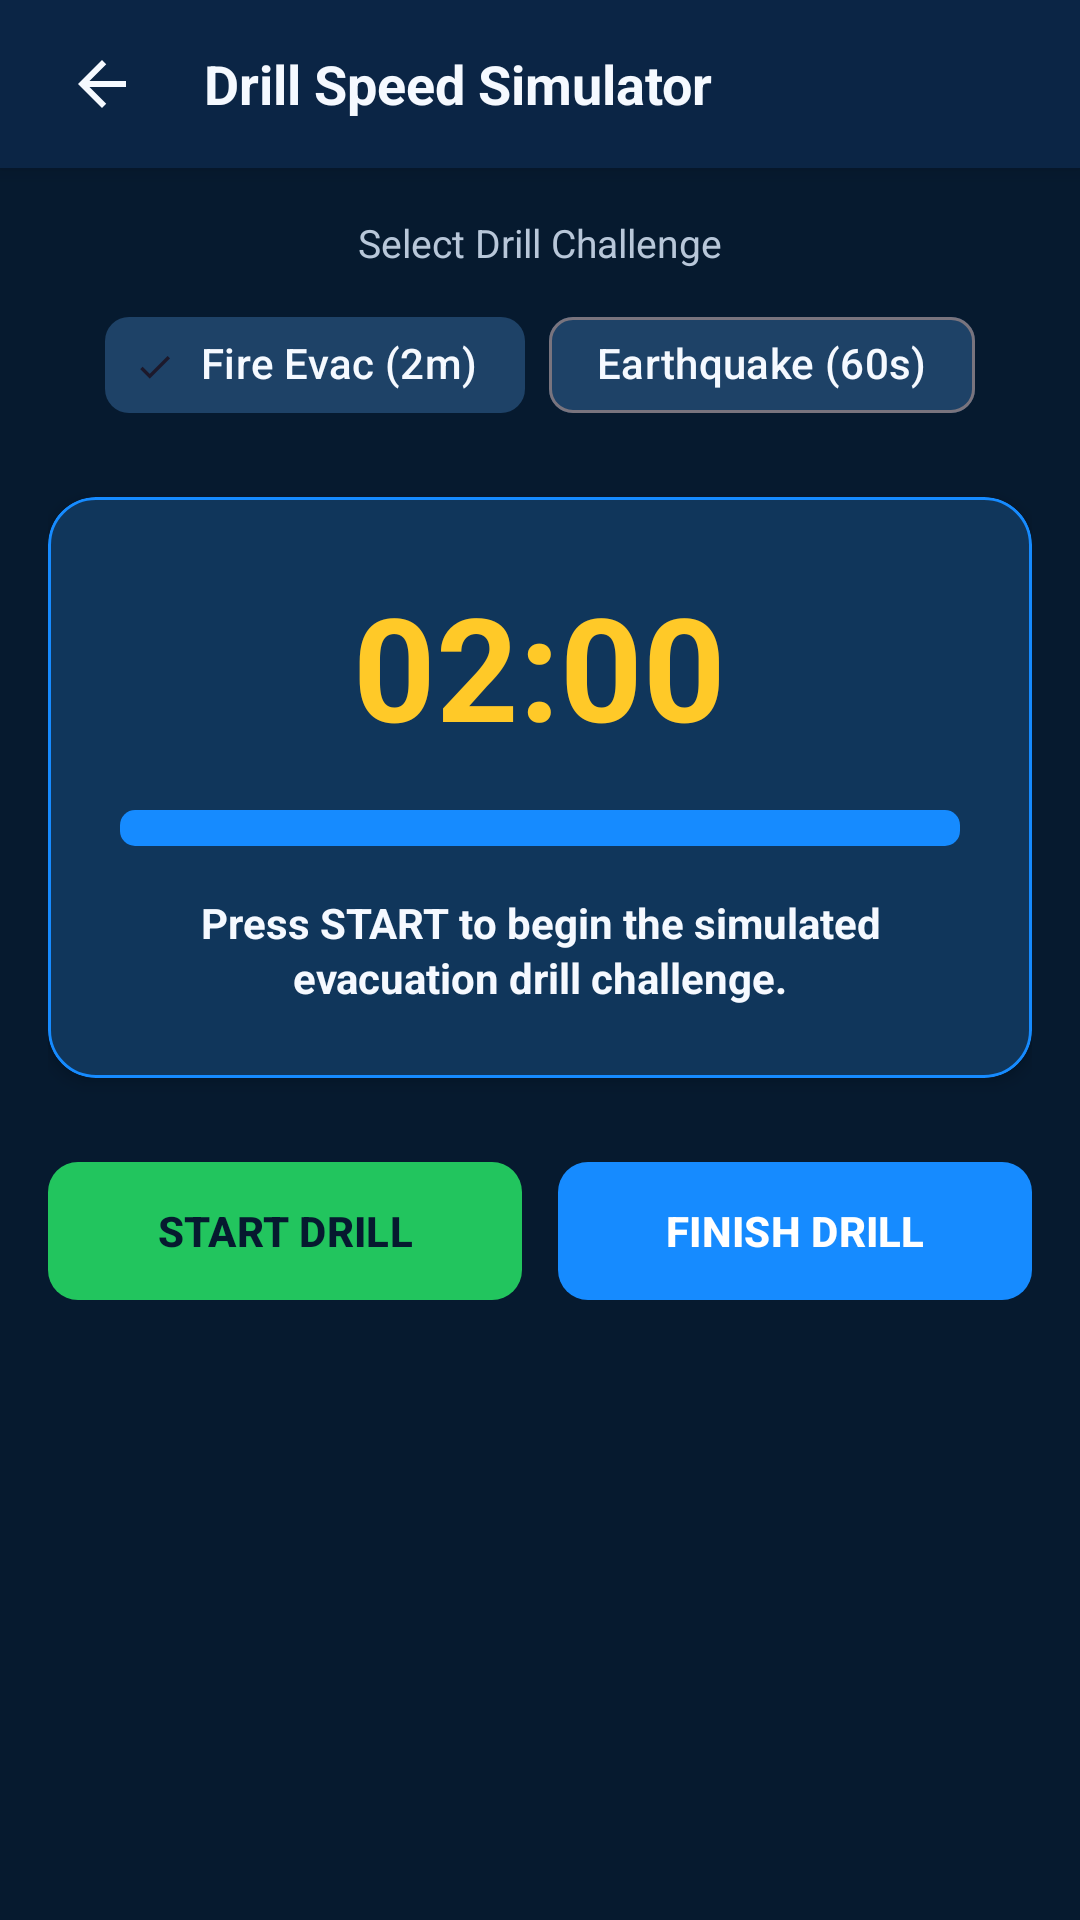

Where to tap for icons on this 1080px×1920px app screen, as (x,y):
Back: (102,84)
